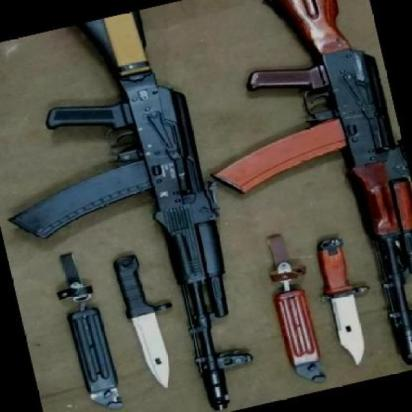Gun: (0, 0, 269, 412), (186, 0, 412, 377)
